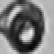correct: (0, 0, 48, 52)
